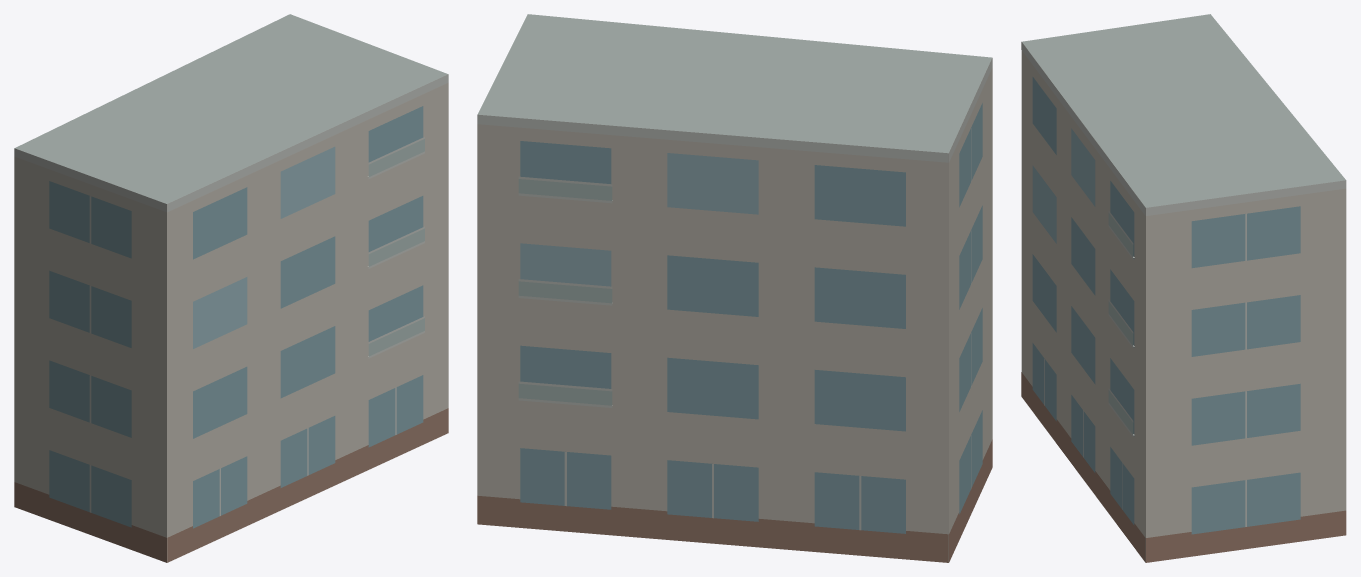
The model's file is survey-upis-32684519.glb.
3 views of the same model, side by side, from view 1: azimuth 30°, elevation 25°; view 2: azimuth 150°, elevation 25°; view 3: azimuth 270°, elevation 25° (orthographic). The views are drawn at different scales.
Parts seen in each view (by area): view 1: survey-upis-32684519.tmp; view 2: survey-upis-32684519.tmp; view 3: survey-upis-32684519.tmp.
Boxes of the visible parts, <box> form: survey-upis-32684519.tmp: <box>14,14,448,562</box>; survey-upis-32684519.tmp: <box>477,14,992,562</box>; survey-upis-32684519.tmp: <box>1021,14,1346,562</box>.
Bounding box in the file's own units: 12.31 × 10.5 × 8.71.
